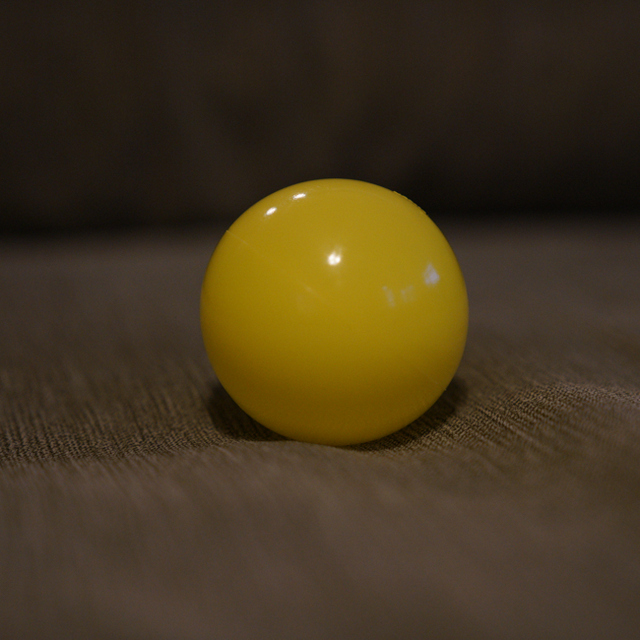Ball: (199, 176, 467, 454)
